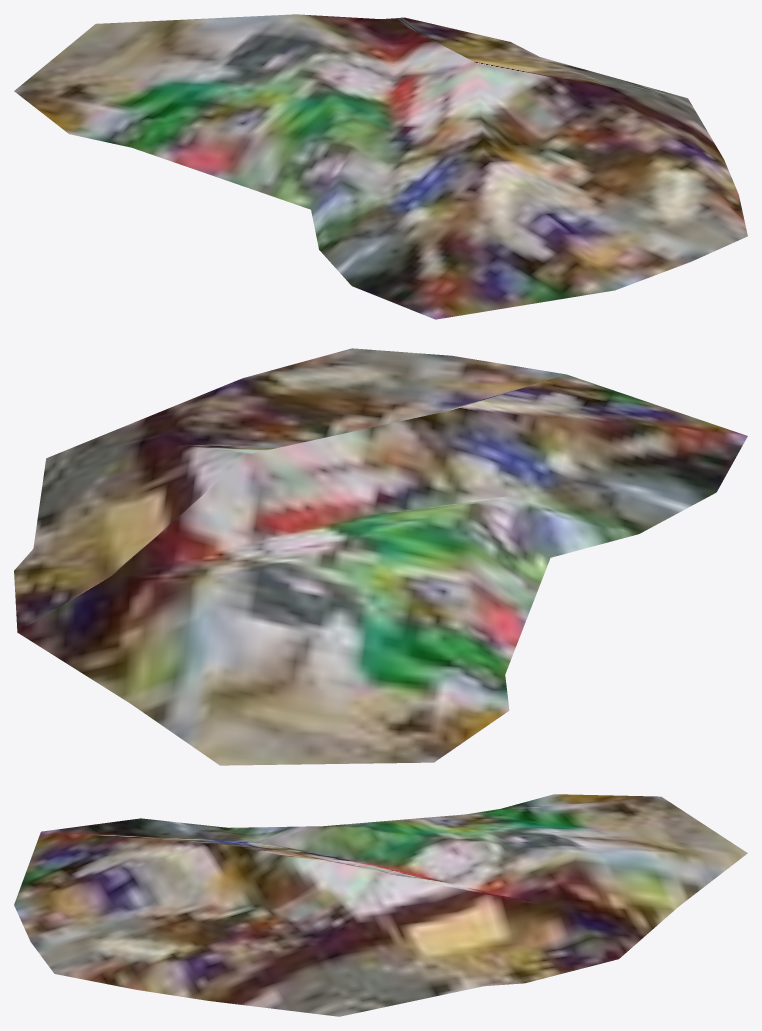
The model's file is trash_1.FBX.
The picture shows the model from 3 angles, top to bottom: view 1: azimuth 30°, elevation 25°; view 2: azimuth 150°, elevation 25°; view 3: azimuth 270°, elevation 25°; orthographic projection. The views are drawn at different scales.
Parts seen in each view (by area): view 1: trash_1; view 2: trash_1; view 3: trash_1.
Part boxes in pixels (x1=…): trash_1: x1=14, y1=14, x2=747, y2=319; trash_1: x1=14, y1=348, x2=747, y2=765; trash_1: x1=14, y1=794, x2=747, y2=1016.
Bounding box in the file's own units: 17.69 × 2.34 × 24.64.
